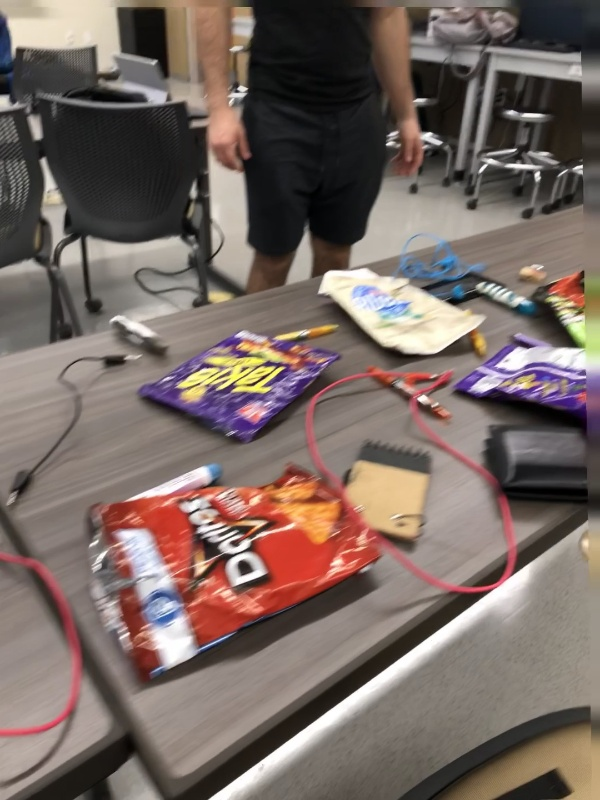bag: (75, 460, 393, 688), (129, 326, 344, 444), (312, 265, 491, 361), (458, 337, 597, 428), (527, 268, 596, 353)
